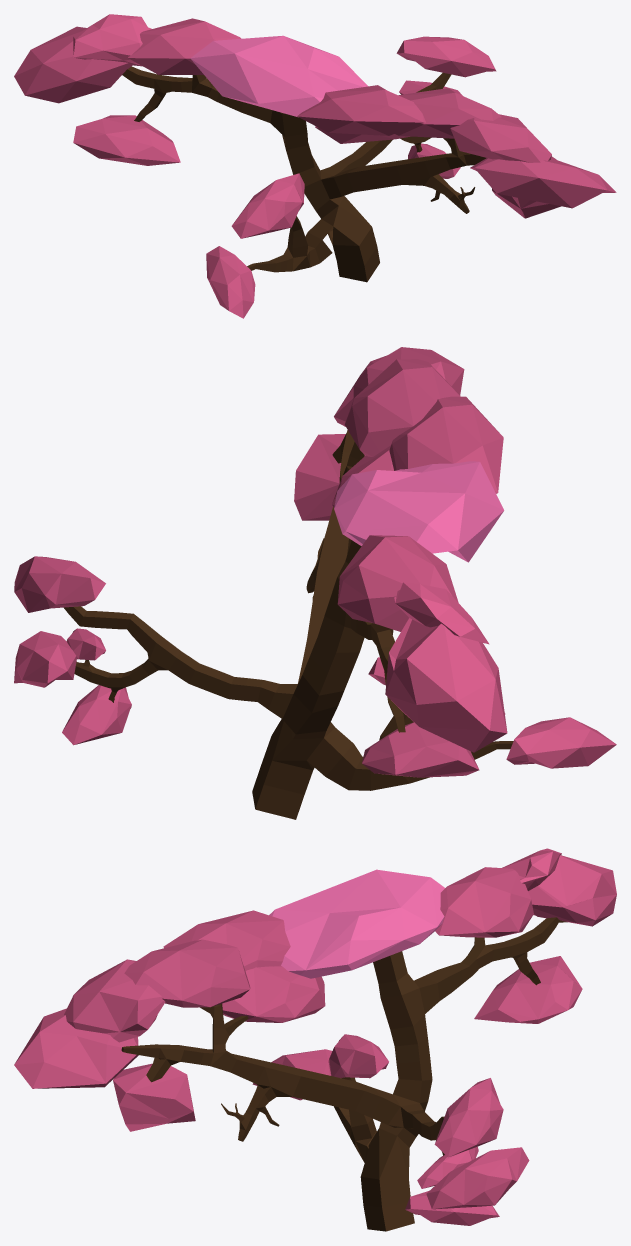
The model's file is sakura-main2.fbx.
3 views of the same model, one above another, from view 1: azimuth 30°, elevation 25°; view 2: azimuth 150°, elevation 25°; view 3: azimuth 270°, elevation 25° (orthographic). The views are drawn at different scales.
Parts seen in each view (by area): view 1: Куб.009, Икосфера.059, Икосфера.051, Икосфера.060, Икосфера.063, Икосфера.058, Икосфера.050, Икосфера.061, Икосфера.064, Икосфера.053, Икосфера.052, Икосфера.049 (+4 smaller); view 2: Куб.009, Икосфера.059, Икосфера.051, Икосфера.050, Икосфера.053, Икосфера.063, Икосфера.058, Икосфера.065, Икосфера.049, Икосфера.062, Икосфера.052, Икосфера.056 (+4 smaller); view 3: Куб.009, Икосфера.059, Икосфера.060, Икосфера.053, Икосфера.050, Икосфера.061, Икосфера.058, Икосфера.051, Икосфера.054, Икосфера.062, Икосфера.055, Икосфера.063 (+6 smaller).
Part boxes in pixels (x1,y1,x2,y2): Куб.009: (122, 66, 486, 282); Икосфера.059: (190, 35, 367, 117); Икосфера.051: (14, 26, 132, 103); Икосфера.060: (470, 156, 616, 208); Икосфера.063: (297, 85, 425, 135); Икосфера.058: (73, 115, 180, 165); Икосфера.050: (128, 18, 240, 74); Икосфера.061: (450, 114, 551, 162); Икосфера.064: (231, 173, 304, 238); Икосфера.053: (395, 88, 501, 138); Икосфера.052: (73, 14, 151, 66); Икосфера.049: (396, 36, 496, 77); Куб.009: (64, 430, 513, 819); Икосфера.059: (334, 461, 504, 562); Икосфера.051: (385, 618, 507, 752); Икосфера.050: (337, 535, 458, 631); Икосфера.053: (344, 359, 460, 456); Икосфера.063: (389, 396, 503, 493); Икосфера.058: (362, 722, 479, 777); Икосфера.065: (506, 717, 616, 768); Икосфера.049: (14, 556, 105, 612); Икосфера.062: (294, 434, 365, 520); Икосфера.052: (394, 582, 489, 644); Икосфера.056: (62, 685, 131, 745); Куб.009: (121, 917, 567, 1231); Икосфера.059: (269, 869, 444, 978); Икосфера.060: (14, 1008, 138, 1088); Икосфера.053: (124, 939, 250, 1007); Икосфера.050: (435, 867, 533, 937); Икосфера.061: (64, 959, 165, 1042); Икосфера.058: (474, 956, 582, 1023); Икосфера.051: (528, 855, 616, 926); Икосфера.054: (222, 965, 325, 1022); Икосфера.062: (113, 1063, 195, 1131); Икосфера.055: (426, 1147, 529, 1209); Икосфера.063: (163, 910, 290, 970).
Size of the model in its own units: 1021 by 607 by 1146.
